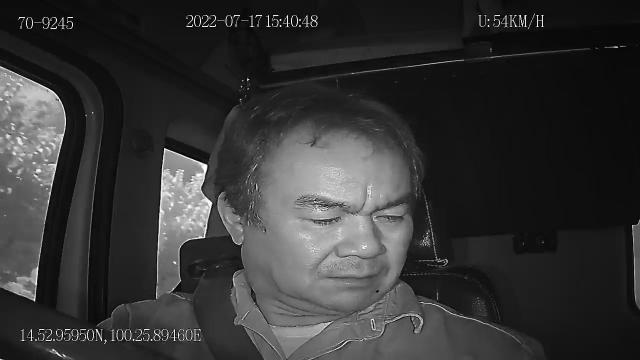SafeDriving: (292, 201, 350, 231)
Seatbelt: (190, 262, 268, 360)
